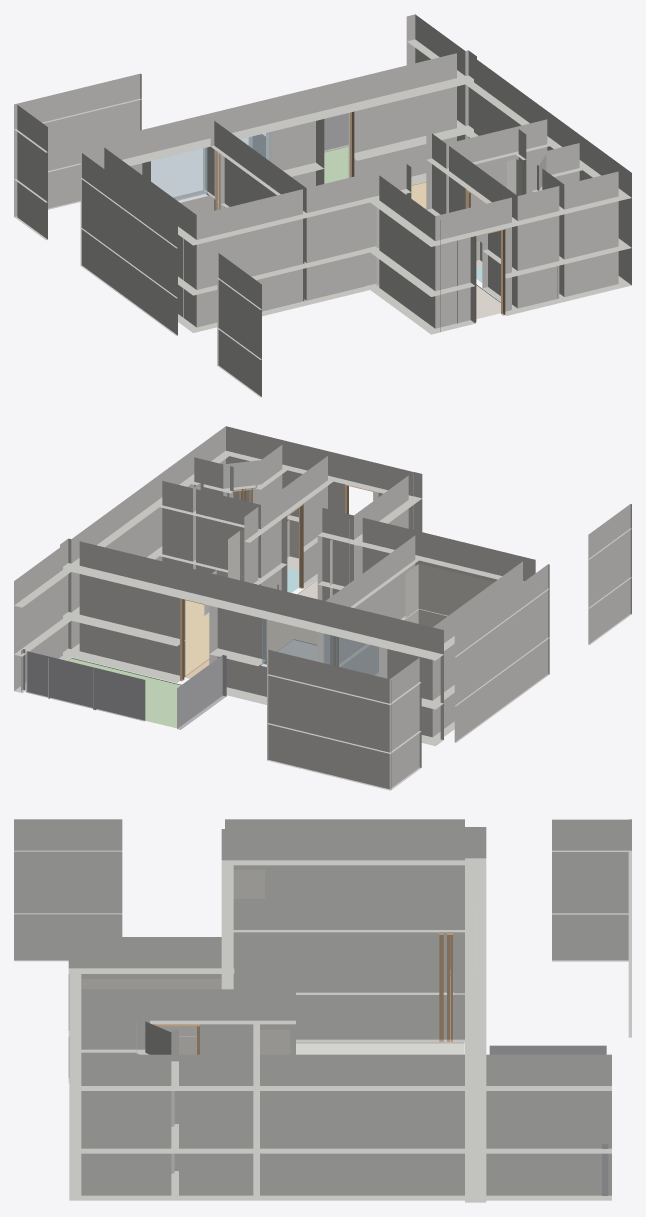
3 views of the same model, one above another, from view 1: azimuth 30°, elevation 25°; view 2: azimuth 150°, elevation 25°; view 3: azimuth 270°, elevation 25° (orthographic). The views are drawn at different scales.
Visible parts, largest first — view 1: walls, window_3, railings, floor_7_Outdoor, door_0, floor_4_Entry; view 2: walls, railings, furniture_1_closet, floor_7_Outdoor, window_2, window_3, floor_3_Kitchen, floor_2_Living_Room, furniture_0_closet, furniture_7_appliance, floor_1_Undefined; view 3: walls, floor_1_Undefined, furniture_3_closet, railings, furniture_1_closet, furniture_0_closet, door_8, door_7.
Boxes of the visible parts, x1,y1,x2,y2 form: walls: [14, 14, 631, 397]; window_3: [151, 143, 207, 200]; railings: [249, 113, 348, 157]; floor_7_Outdoor: [324, 146, 348, 183]; door_0: [475, 229, 505, 321]; floor_4_Entry: [476, 284, 500, 318]; walls: [14, 426, 631, 790]; railings: [21, 649, 226, 729]; furniture_1_closet: [405, 564, 493, 627]; floor_7_Outdoor: [25, 658, 181, 728]; window_2: [262, 618, 321, 664]; window_3: [323, 633, 378, 676]; floor_3_Kitchen: [185, 599, 209, 675]; floor_2_Living_Room: [185, 620, 316, 678]; furniture_0_closet: [228, 531, 244, 581]; furniture_7_appliance: [287, 519, 298, 570]; floor_1_Undefined: [277, 639, 316, 661]; walls: [14, 819, 631, 1202]; floor_1_Undefined: [296, 1042, 464, 1054]; furniture_3_closet: [81, 979, 221, 1054]; railings: [489, 1045, 608, 1195]; furniture_1_closet: [233, 870, 265, 898]; furniture_0_closet: [260, 1029, 290, 1054]; door_8: [447, 932, 452, 1041]; door_7: [439, 932, 443, 1041].
Bounding box in the file's own units: 9.96 × 2.72 × 10.73.
